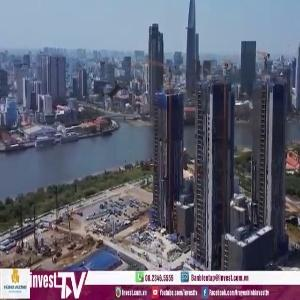drone: (90, 69, 144, 123)
